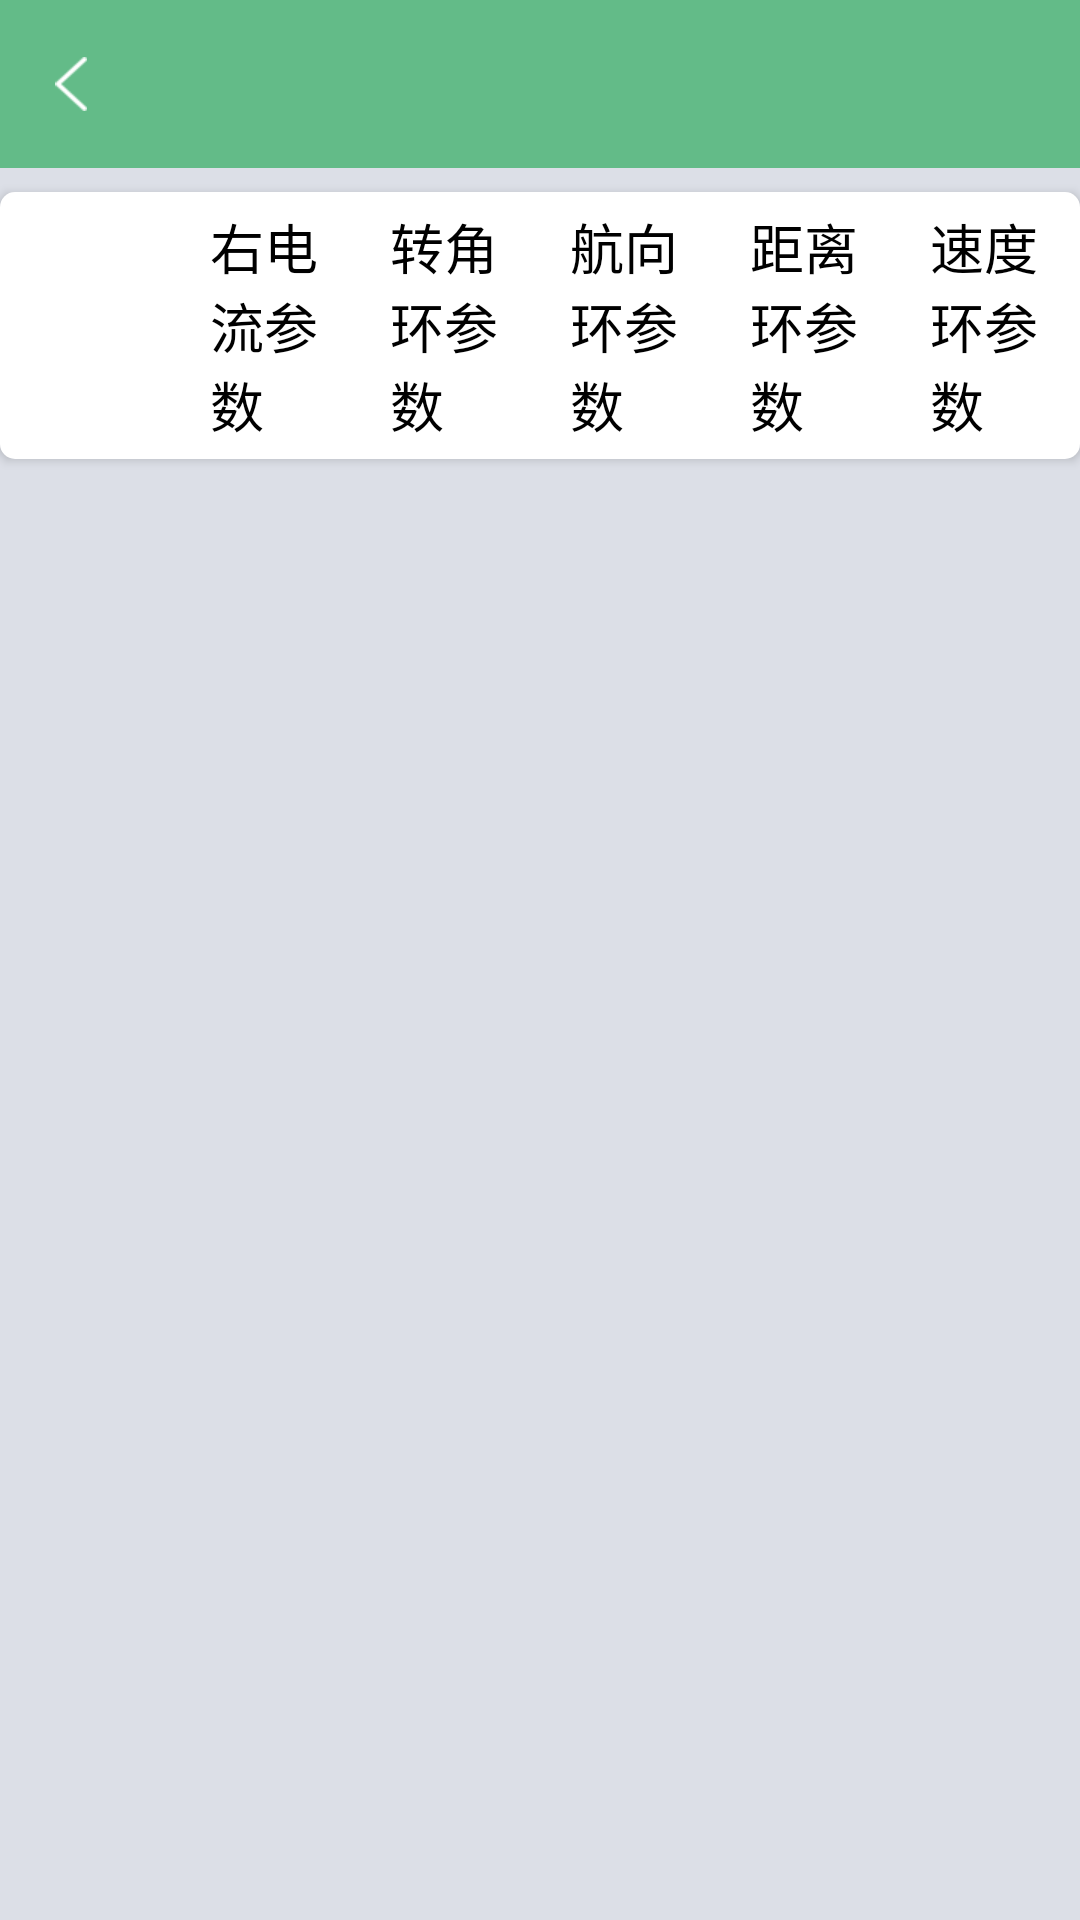

Screen size 1080*1920. Icon name, then its box in pixels as (x1, y1, x2, y2):
back: (55, 57, 87, 111)
